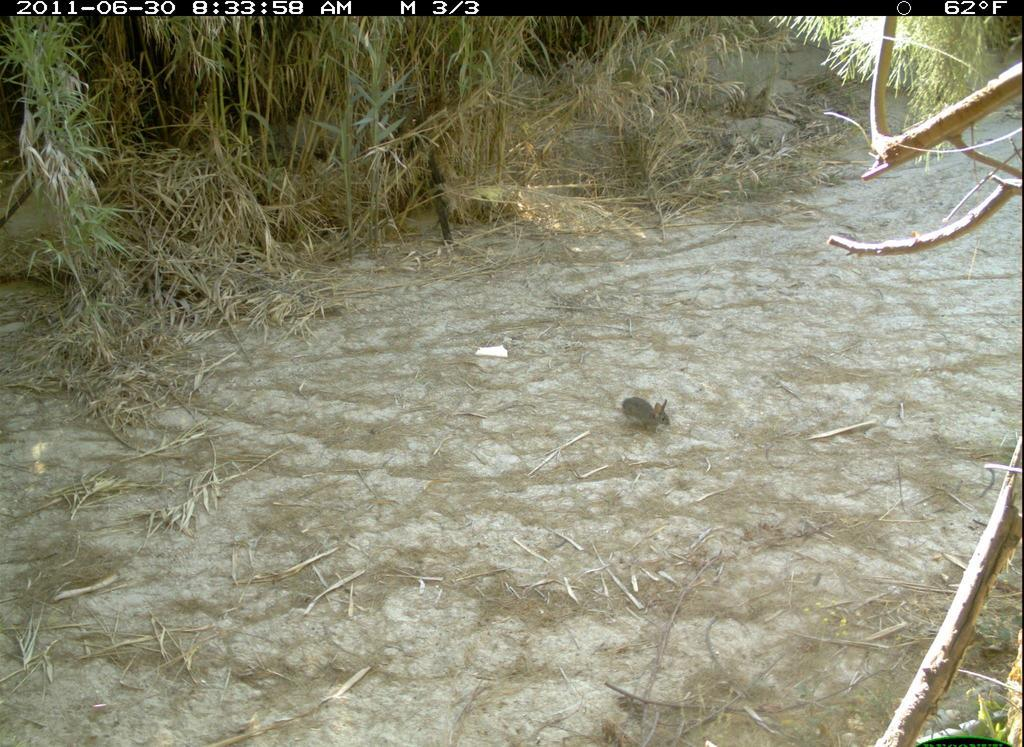rabbit: (605, 387, 689, 451)
